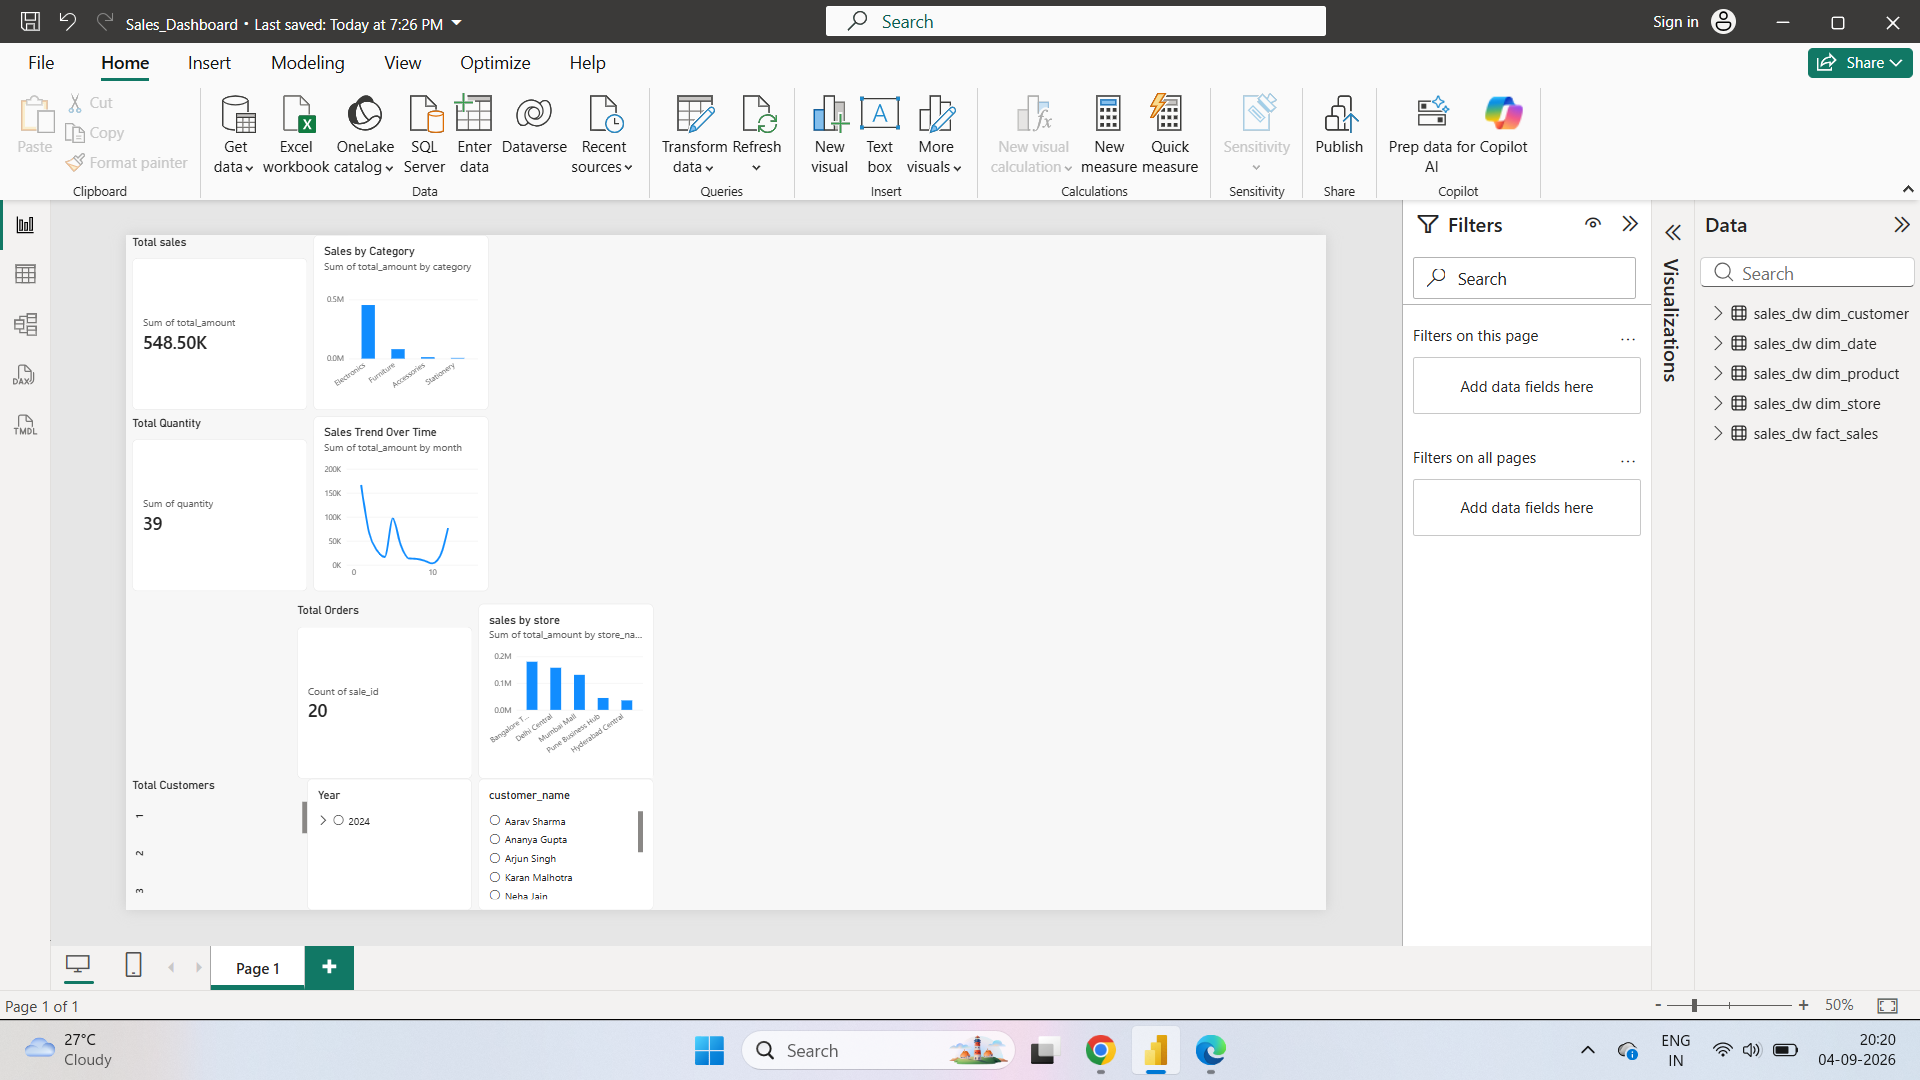

This screenshot's page, from the dashboard's own definition file:
{"tool":"powerbi","page":{"name":"Page 1","canvas":[1920,1080],"ordinal":0},"visuals":[{"type":"cardVisual","title":"Total sales","fields":{"Data":["Sum(sales_dw fact_sales.total_amount)"]},"box":[10,0,280,280],"z":0},{"type":"cardVisual","title":"Total Quantity","fields":{"Data":["Sum(sales_dw fact_sales.quantity)"]},"box":[10,290,280,280],"z":1000},{"type":"cardVisual","title":"Total Orders","fields":{"Data":["CountNonNull(sales_dw fact_sales.sale_id)"]},"box":[273,590,280,280],"z":2000},{"type":"cardVisual","title":"Total Customers","fields":{"Rows":["sales_dw fact_sales.customer_id"]},"box":[10,870,280,210],"z":3000},{"type":"clusteredColumnChart","title":"Sales by Category","fields":{"Category":["sales_dw dim_product.category"],"Y":["Sum(sales_dw fact_sales.total_amount)"]},"box":[300,0,280,280],"z":4000},{"type":"lineChart","title":"Sales Trend Over Time","fields":{"Category":["sales_dw dim_date.month"],"Y":["Sum(sales_dw fact_sales.total_amount)"]},"box":[300,290,280,280],"z":5000},{"type":"listSlicer","fields":{"Values":["sales_dw dim_date.date.Variation.Date Hierarchy.Year","sales_dw dim_date.date.Variation.Date Hierarchy.Quarter","sales_dw dim_date.date.Variation.Date Hierarchy.Month","sales_dw dim_date.date.Variation.Date Hierarchy.Day"]},"box":[290,870,263,210],"z":6000},{"type":"clusteredColumnChart","title":"sales by store","fields":{"Category":["sales_dw dim_store.store_name"],"Y":["Sum(sales_dw fact_sales.total_amount)"]},"box":[563,590,280,280],"z":7000},{"type":"listSlicer","fields":{"Values":["sales_dw dim_customer.customer_name"]},"box":[563,870,280,210],"z":8000}]}

Visuals, with their boxes on the page's 1920x1080 design canvas (x1, y1, x2, y2). These are canvas units, not pixel positions in the 1920x1080 screenshot, which may show the page scaled, cropped or inside an application window:
"Total sales" cardVisual: box=[10, 0, 290, 280]
"Total Quantity" cardVisual: box=[10, 290, 290, 570]
"Total Orders" cardVisual: box=[273, 590, 553, 870]
"Total Customers" cardVisual: box=[10, 870, 290, 1080]
"Sales by Category" clusteredColumnChart: box=[300, 0, 580, 280]
"Sales Trend Over Time" lineChart: box=[300, 290, 580, 570]
listSlicer - sales_dw dim_date.date.Variation.Date Hierarchy.Year x sales_dw dim_date.date.Variation.Date Hierarchy.Quarter: box=[290, 870, 553, 1080]
"sales by store" clusteredColumnChart: box=[563, 590, 843, 870]
listSlicer - sales_dw dim_customer.customer_name: box=[563, 870, 843, 1080]
